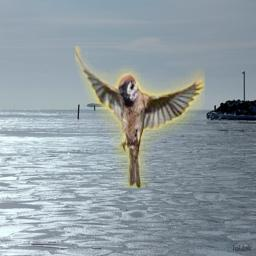Sparrow: (75, 46, 205, 188)
